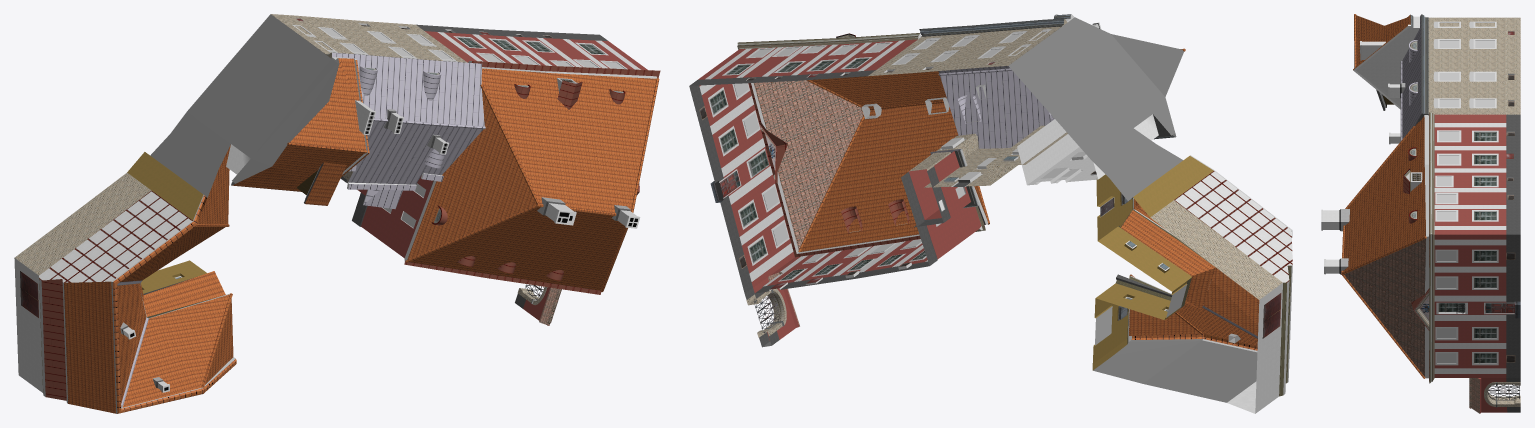
File: Lai_17.obj
3 views of the same model, side by side, from view 1: azimuth 30°, elevation 25°; view 2: azimuth 150°, elevation 25°; view 3: azimuth 270°, elevation 25° (orthographic). The views are drawn at different scales.
Parts seen in each view (by area): view 1: Lai_17; view 2: Lai_17; view 3: Lai_17.
Part boxes in pixels (x1,y1,x2,y2): Lai_17: (14,14,660,413); Lai_17: (689,14,1292,413); Lai_17: (1321,14,1520,413).
Bounding box in the file's own units: 60.87 × 35.03 × 21.36.
